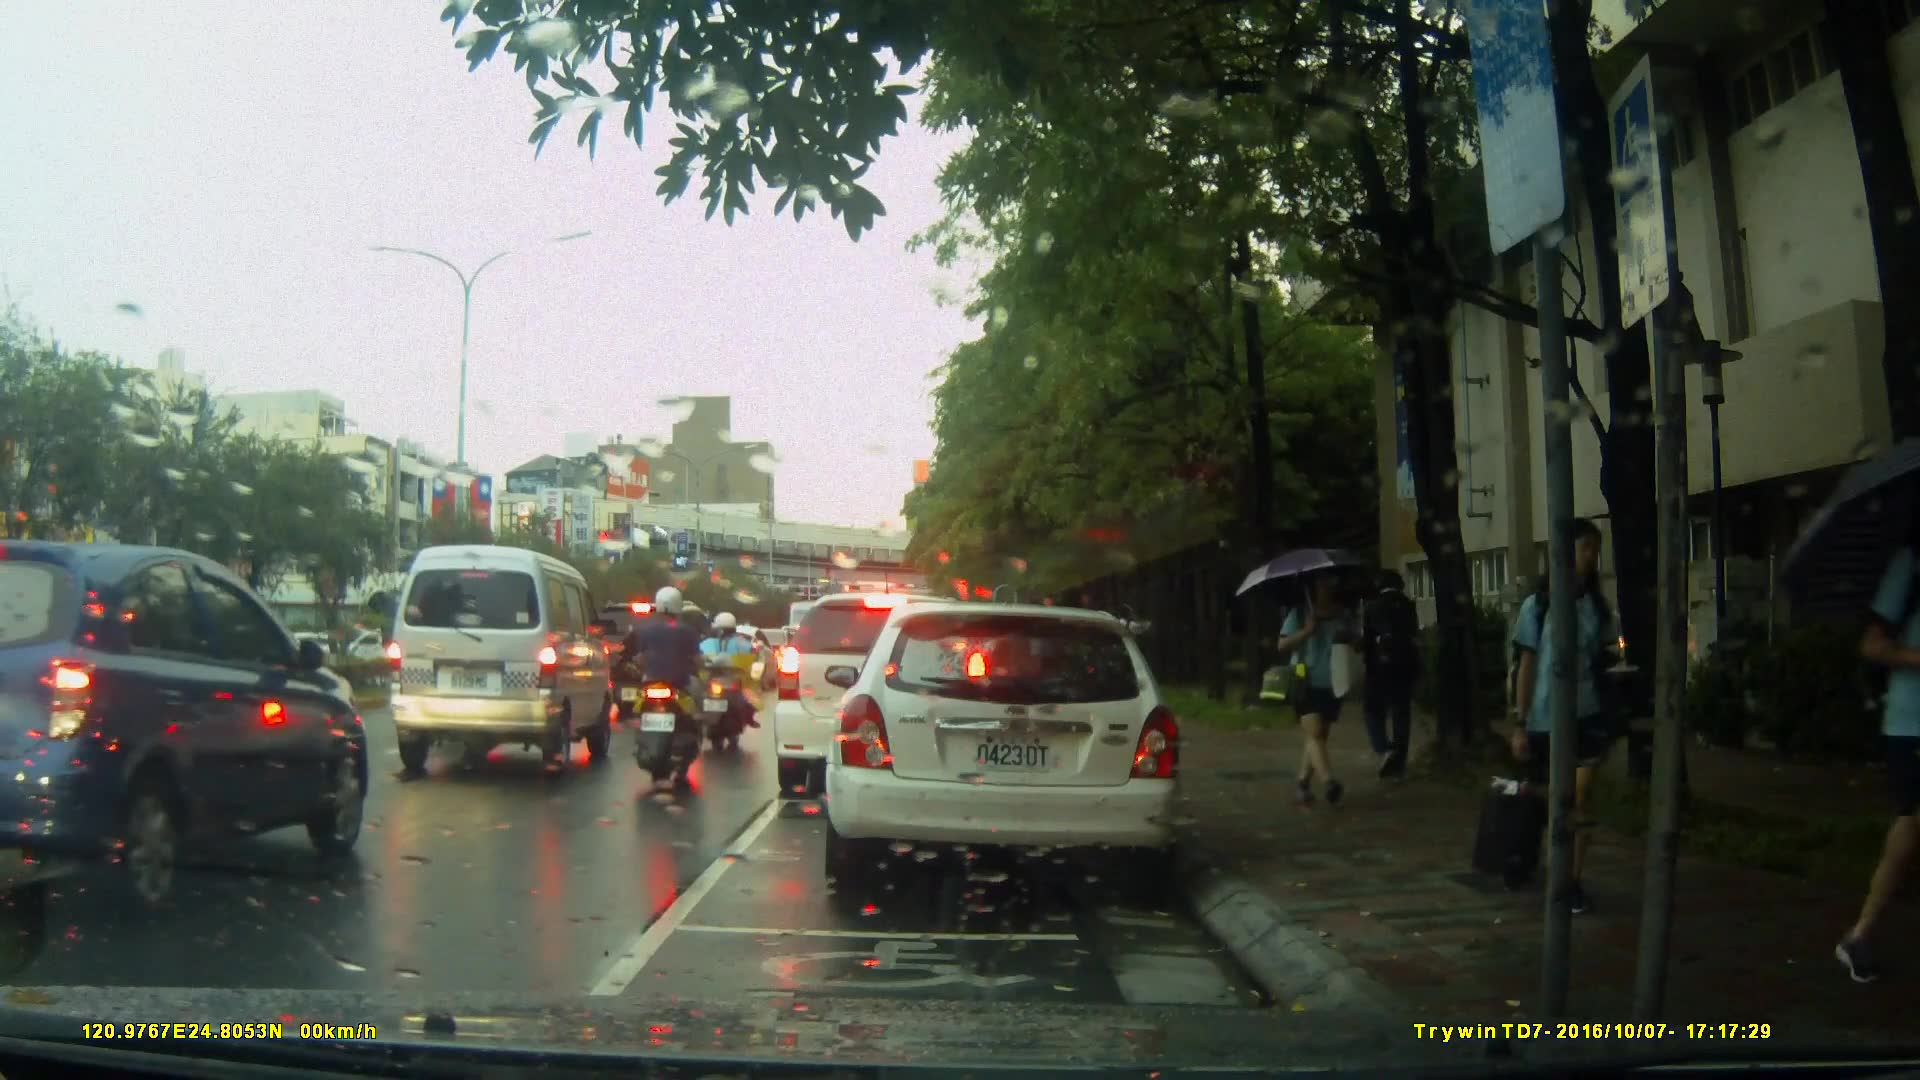pedestrian: (1817, 462, 1920, 1001), (1500, 503, 1626, 941), (1281, 554, 1355, 814), (1348, 564, 1428, 795)
rider: (634, 582, 710, 797), (693, 611, 755, 757)
vehicle: (3, 538, 373, 921), (815, 593, 1204, 909), (379, 543, 612, 776), (770, 590, 993, 802), (582, 603, 737, 725)
